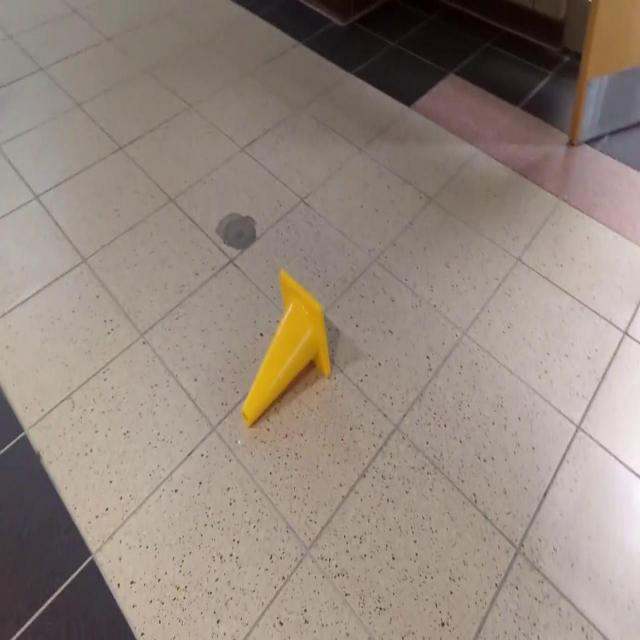frc_cone: (240, 265, 332, 429)
